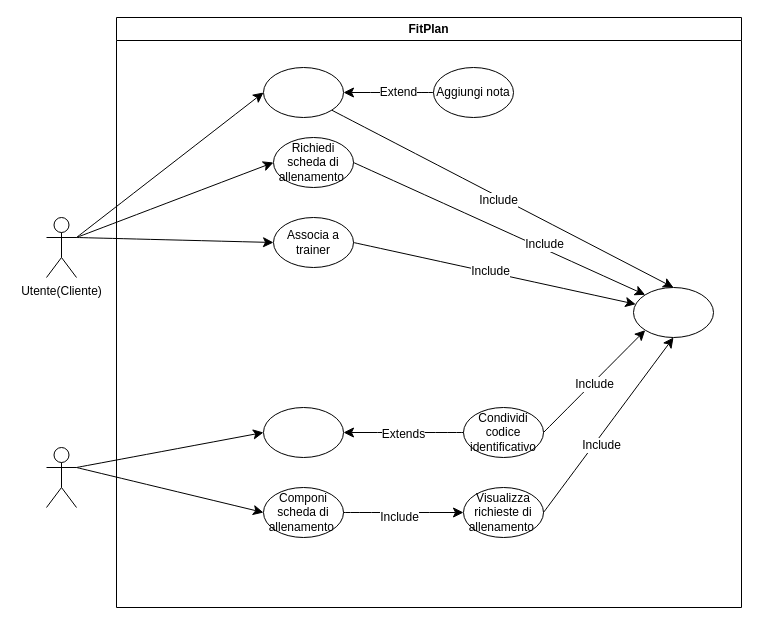
Some shapes in this 759 by 625 pixel diagram are drawn without their labels. Here are the shapes that lost their labels. From the top down, the box of each, then its label:
(262, 66, 344, 118): Visualizza scheda di allenamento
(632, 286, 714, 338): Log In
(262, 406, 344, 458): Visualizza codice identificativo
(46, 446, 76, 508): Personal Trainer
